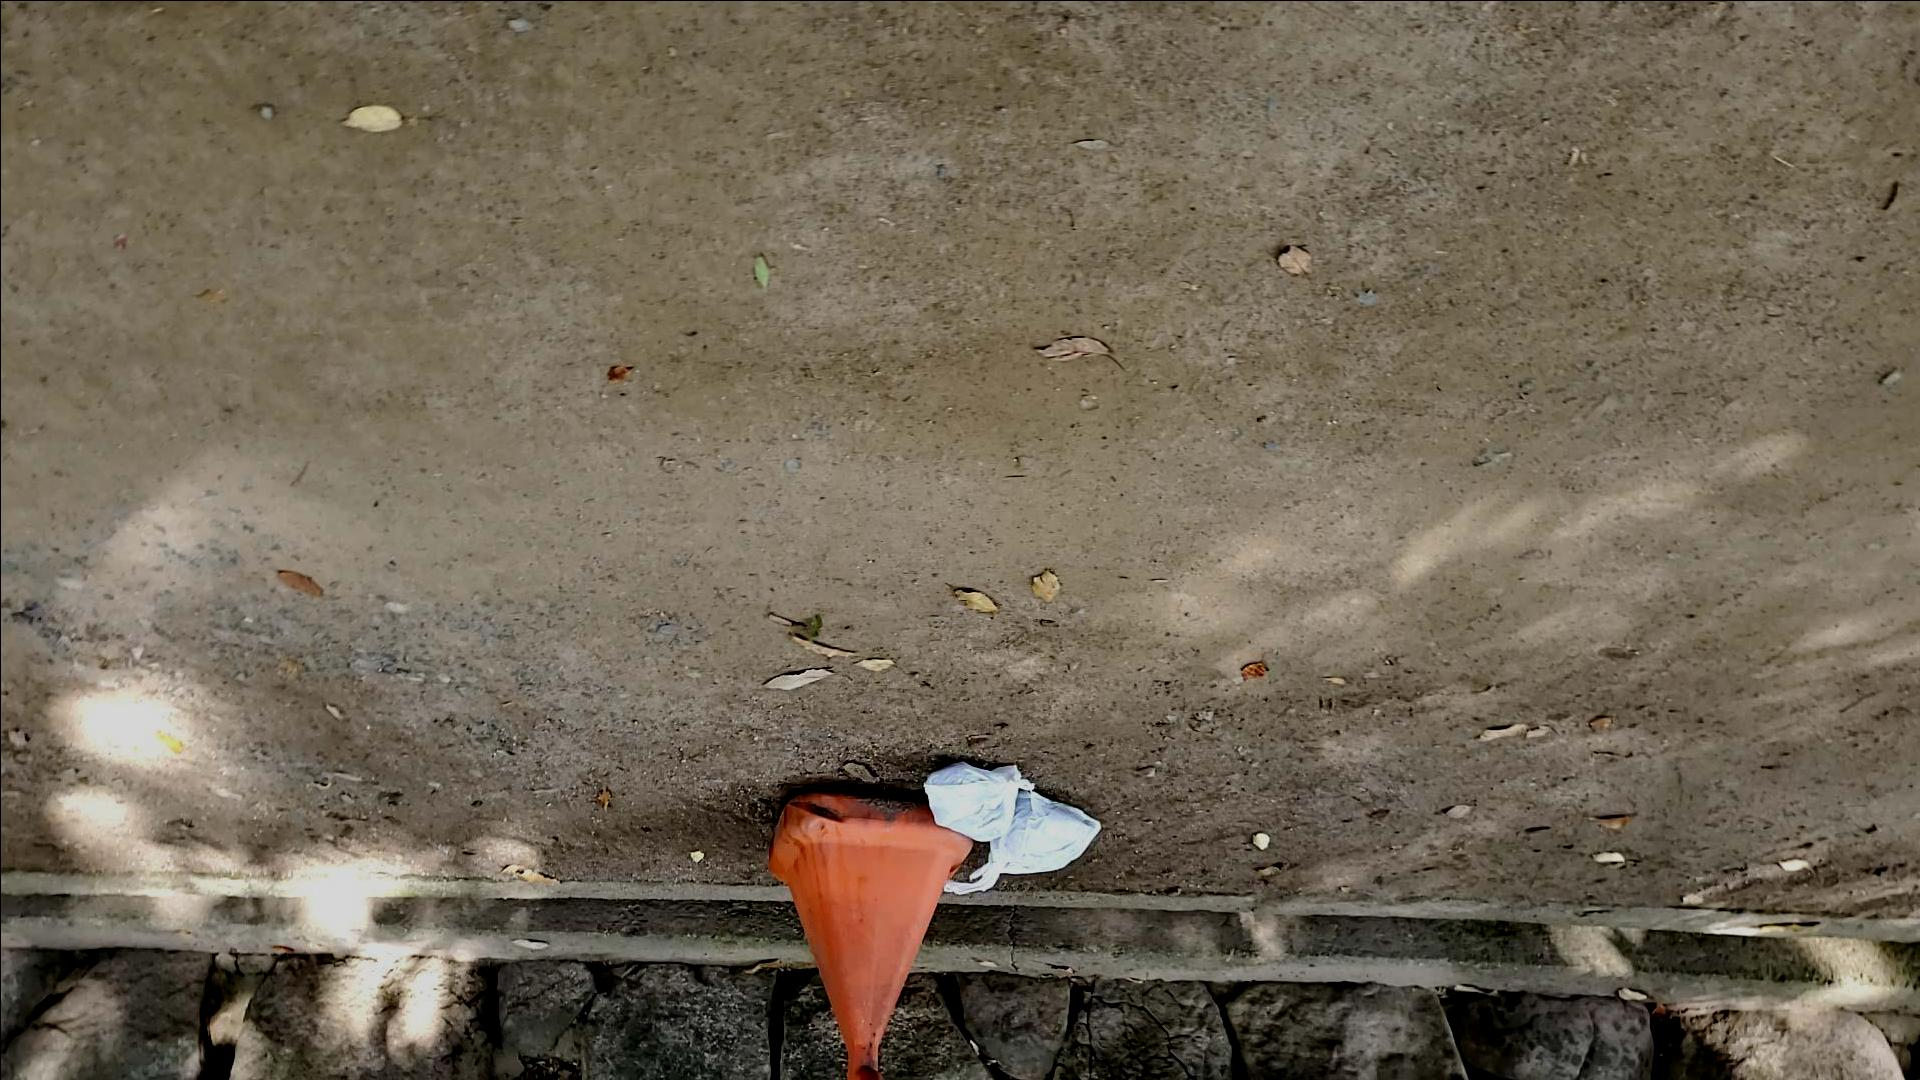white_bag: (940, 789, 1114, 905), (920, 750, 1043, 845)
